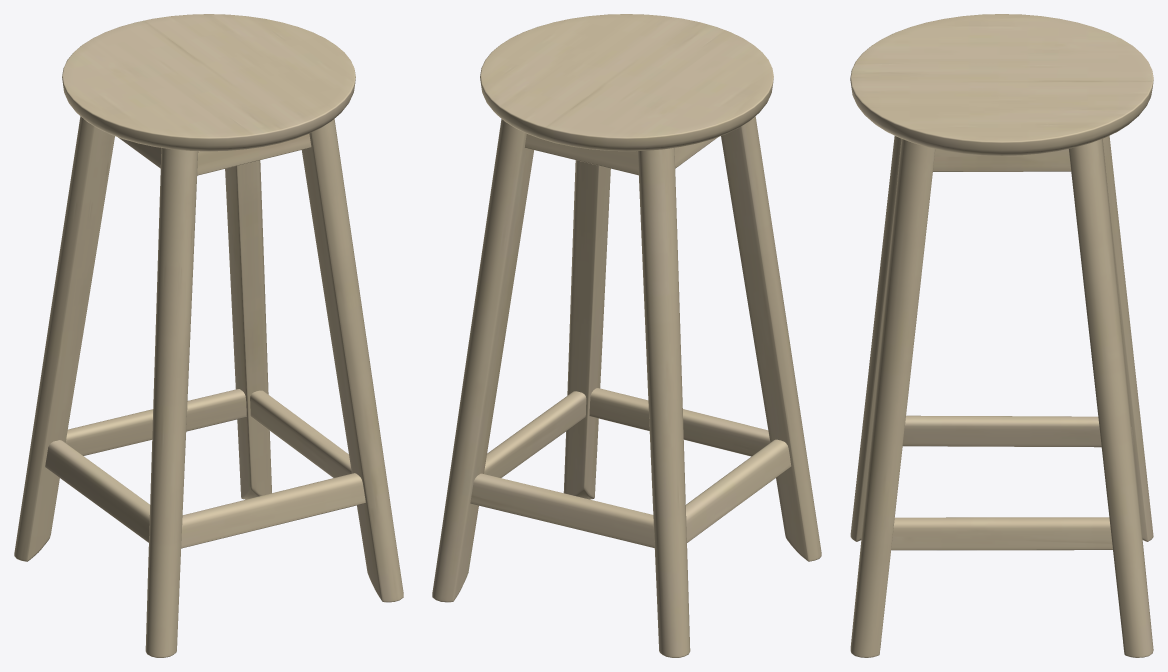
3 renders of one model, left to right at view 1: azimuth 30°, elevation 25°; view 2: azimuth 150°, elevation 25°; view 3: azimuth 270°, elevation 25°, orthographic. The views are drawn at different scales.
Visible parts, largest first — view 1: ravsten-stool.001; view 2: ravsten-stool.001; view 3: ravsten-stool.001.
Boxes of the visible parts, <box> form: ravsten-stool.001: <box>14,14,403,657</box>; ravsten-stool.001: <box>432,14,821,657</box>; ravsten-stool.001: <box>850,14,1153,657</box>.
Bounding box in the file's own units: 0.3302 × 0.62 × 0.3302.
Materials: 1 (1 with a texture image).
